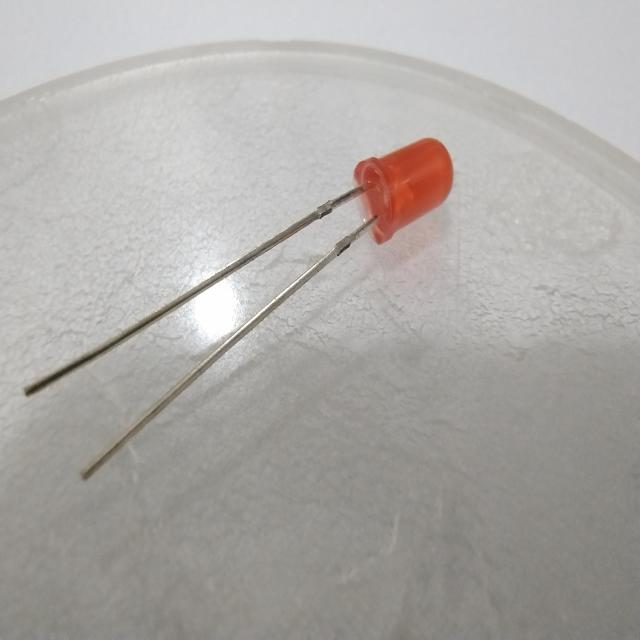red_led: (350, 136, 462, 249)
